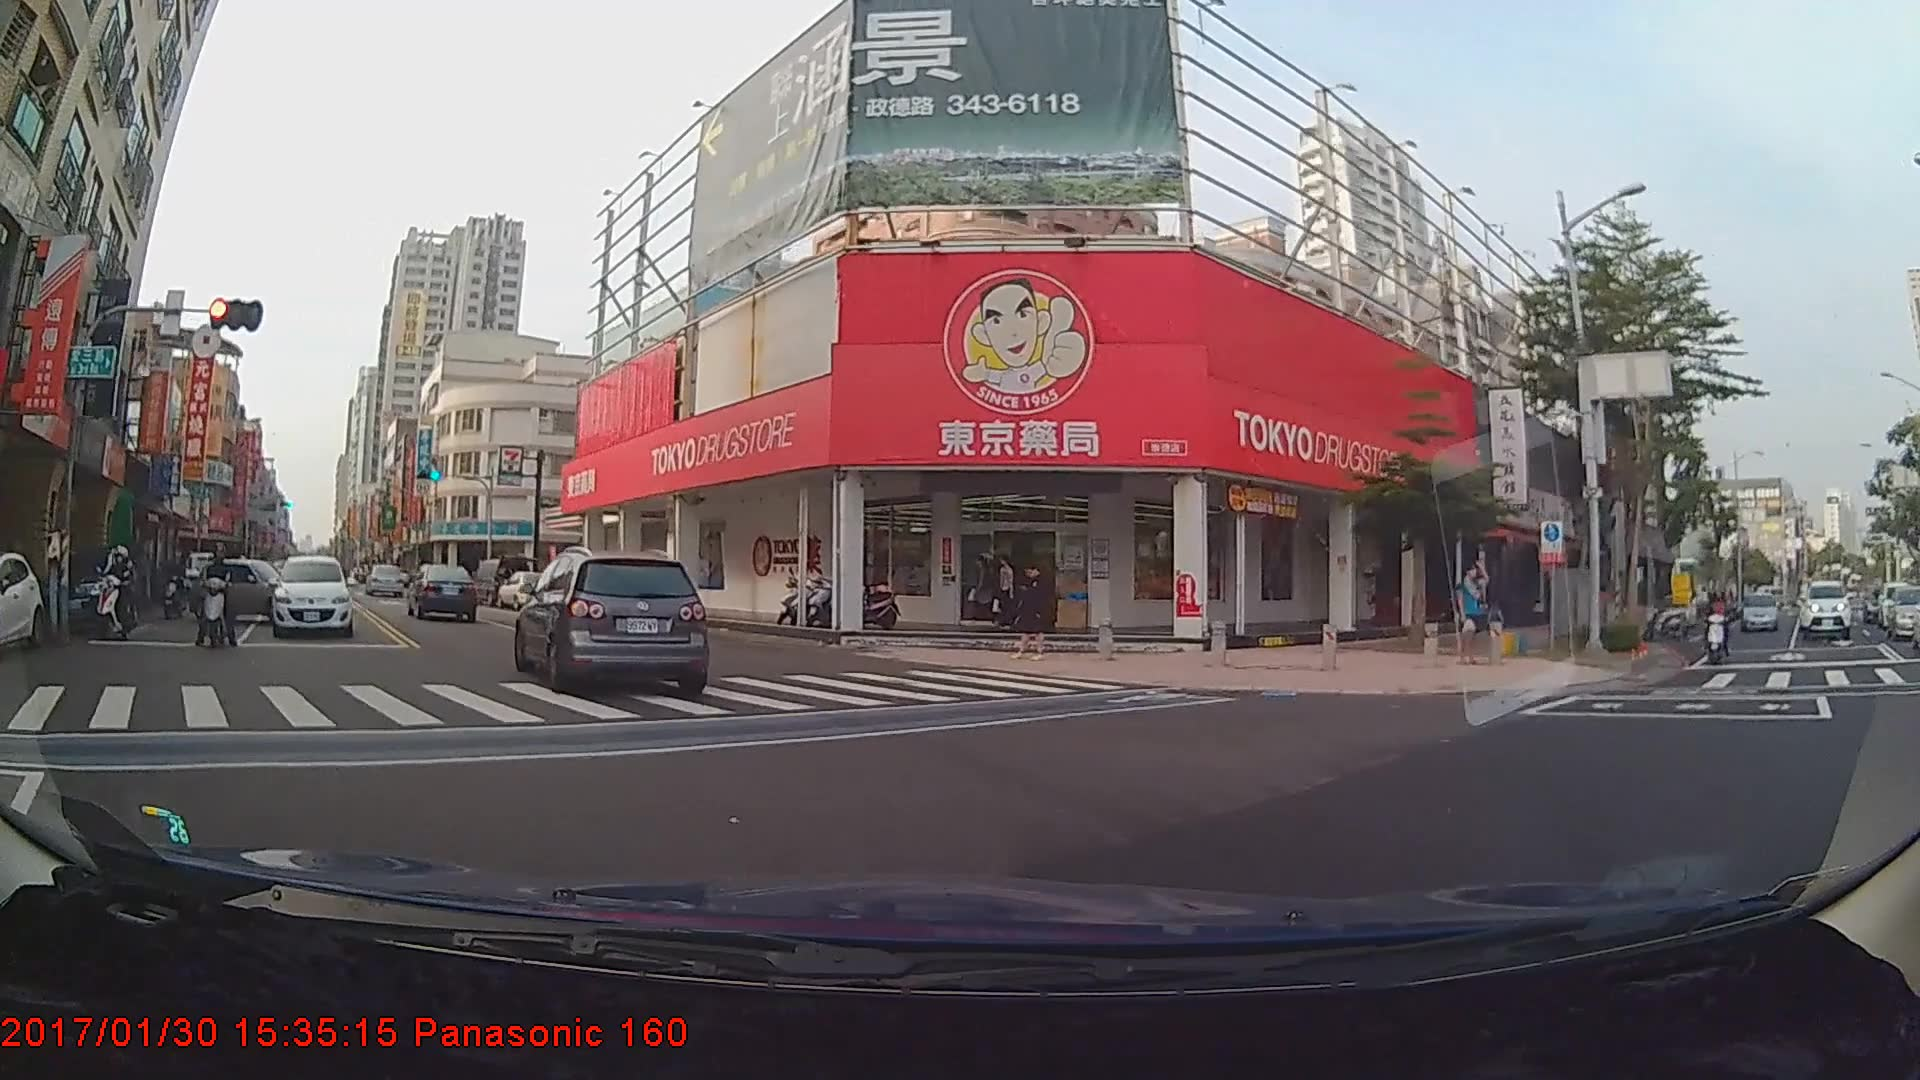pedestrian: (1010, 563, 1060, 661), (1454, 557, 1492, 667), (967, 551, 1005, 632), (993, 555, 1017, 632)
rider: (90, 547, 149, 646), (187, 546, 239, 653), (1696, 589, 1734, 662)
vehicle: (515, 551, 707, 695), (25, 540, 139, 633), (188, 556, 305, 623), (268, 557, 352, 640), (408, 563, 476, 621), (1795, 581, 1851, 644), (492, 566, 551, 605), (1884, 583, 1920, 639), (1715, 596, 1743, 624)
